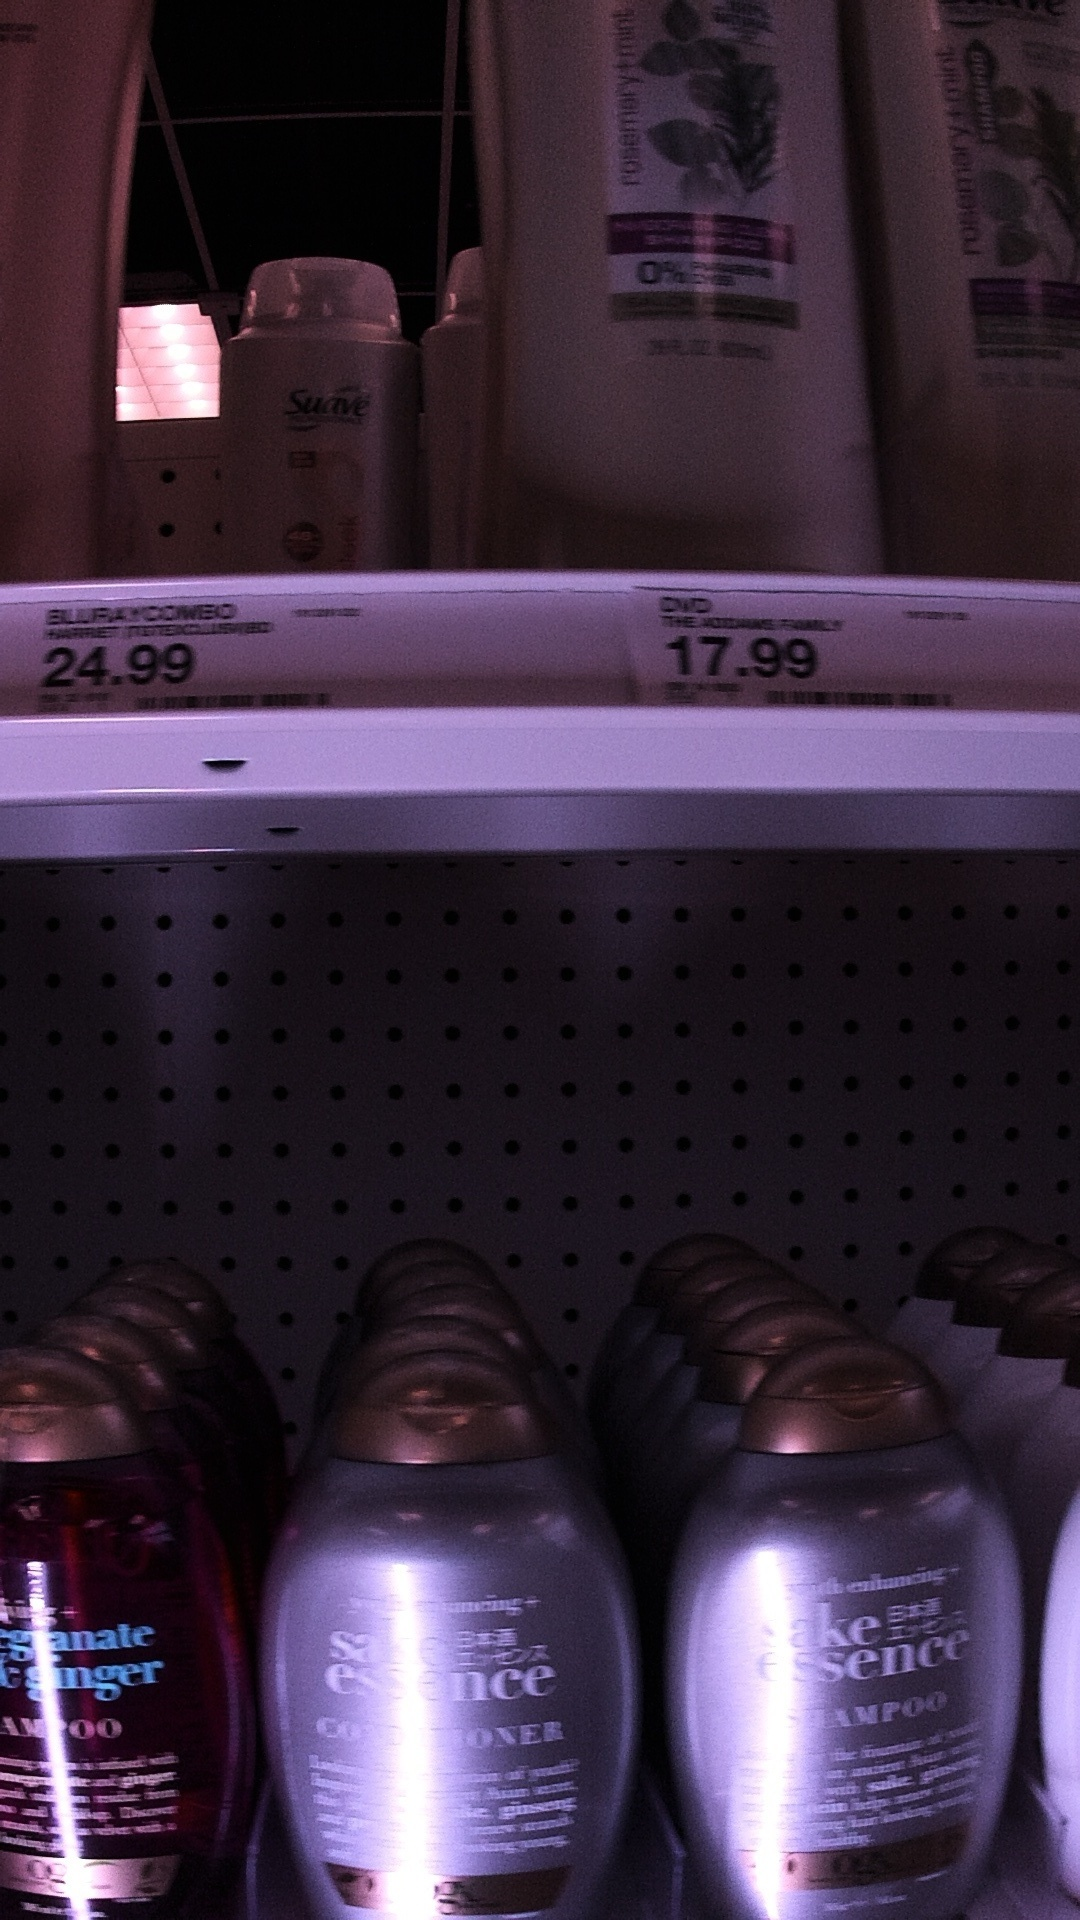ptag: (632, 589, 986, 715), (15, 591, 386, 709)
